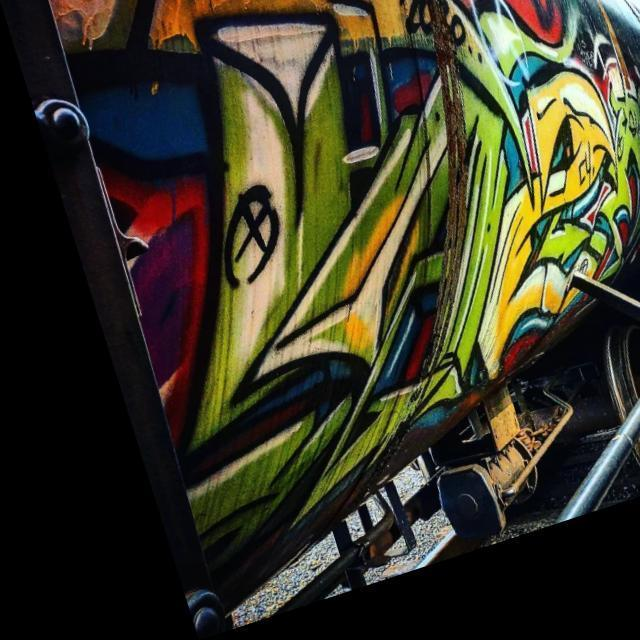-: (17, 0, 640, 617)
